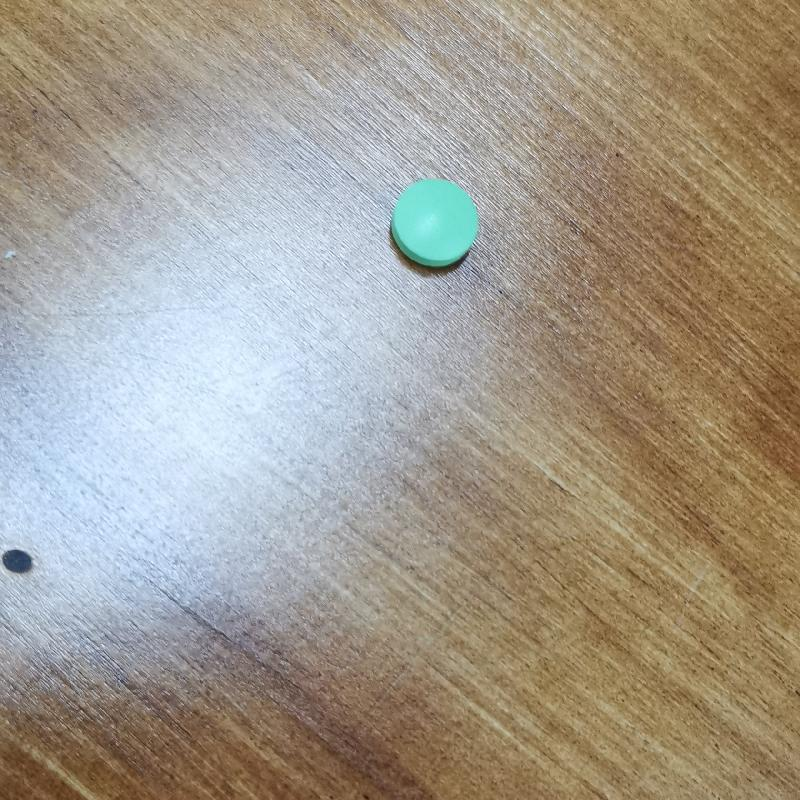pills: (380, 172, 502, 290)
